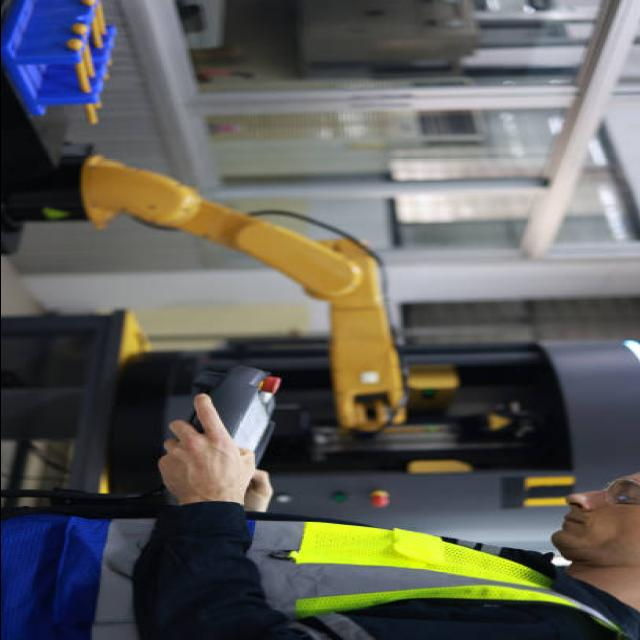Robotic-arm: (66, 142, 422, 430)
